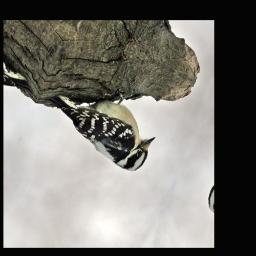Woodpecker: (30, 53, 172, 180)
